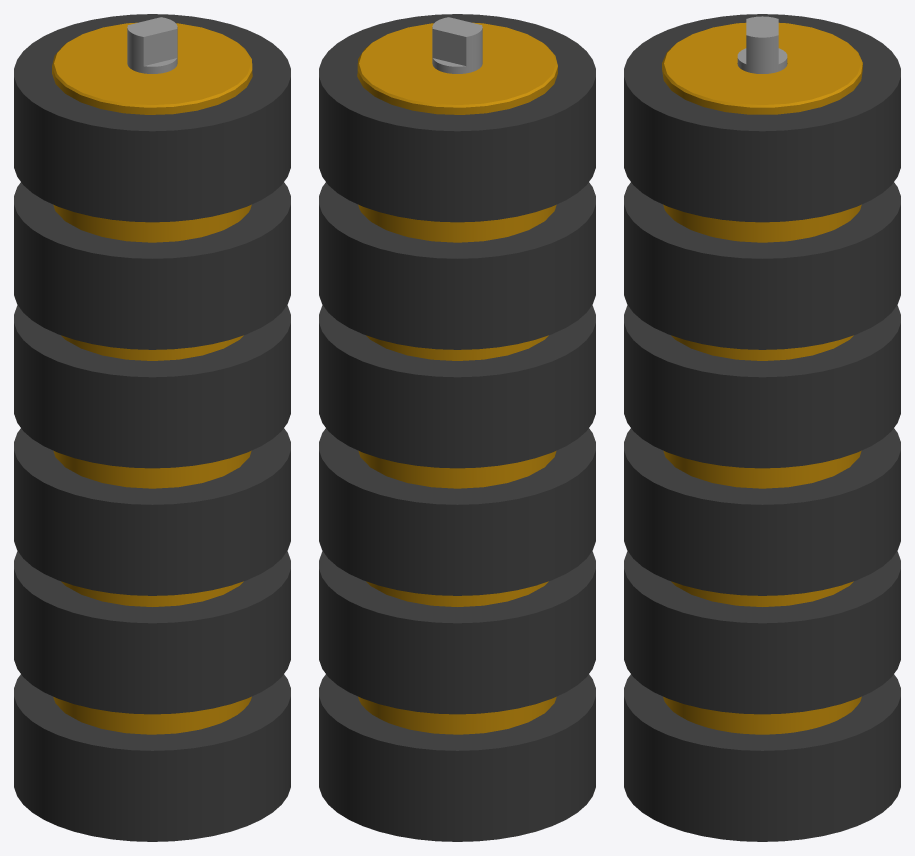
The model's file is Rolete_Retorno.obj.
3 views of the same model, side by side, from view 1: azimuth 30°, elevation 25°; view 2: azimuth 150°, elevation 25°; view 3: azimuth 270°, elevation 25° (orthographic).
Visible parts, largest first — view 1: Corpo9, Corpo6, Corpo8, Corpo4, Corpo5, Corpo7, Corpo2, Corpo3; view 2: Corpo9, Corpo6, Corpo8, Corpo4, Corpo5, Corpo7, Corpo2, Corpo3; view 3: Corpo9, Corpo6, Corpo8, Corpo4, Corpo5, Corpo7, Corpo2, Corpo3.
Part boxes in pixels (x1,y1,x2,y2): Corpo9: [14, 14, 290, 222]; Corpo6: [14, 428, 290, 595]; Corpo8: [14, 182, 290, 349]; Corpo4: [14, 674, 290, 841]; Corpo5: [14, 551, 290, 714]; Corpo7: [14, 305, 290, 468]; Corpo2: [52, 22, 252, 734]; Corpo3: [127, 17, 177, 73]; Corpo9: [319, 14, 595, 222]; Corpo6: [319, 428, 595, 595]; Corpo8: [319, 182, 595, 349]; Corpo4: [319, 674, 595, 841]; Corpo5: [319, 551, 595, 714]; Corpo7: [319, 305, 595, 468]; Corpo2: [357, 22, 557, 734]; Corpo3: [432, 17, 482, 73]; Corpo9: [624, 14, 900, 222]; Corpo6: [624, 428, 900, 595]; Corpo8: [624, 182, 900, 349]; Corpo4: [624, 674, 900, 841]; Corpo5: [624, 551, 900, 714]; Corpo7: [624, 305, 900, 468]; Corpo2: [662, 22, 862, 734]; Corpo3: [737, 16, 787, 73].
Size of the model in its own units: 13.8 by 44 by 13.76.
